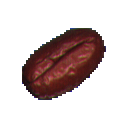ng: (16, 22, 111, 105)
